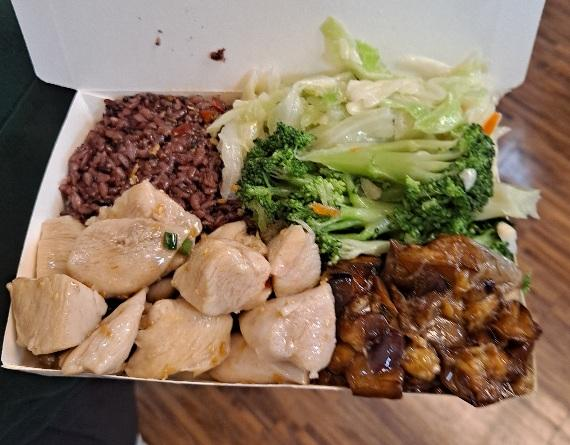big grilled chicken leg: (3, 68, 546, 412)
braised fish: (63, 88, 255, 221)
braised fish fillet: (328, 240, 535, 399), (220, 47, 512, 152), (241, 130, 497, 237)
braised pork: (21, 196, 334, 385)
